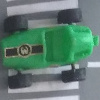carro: (2, 10, 97, 87)
